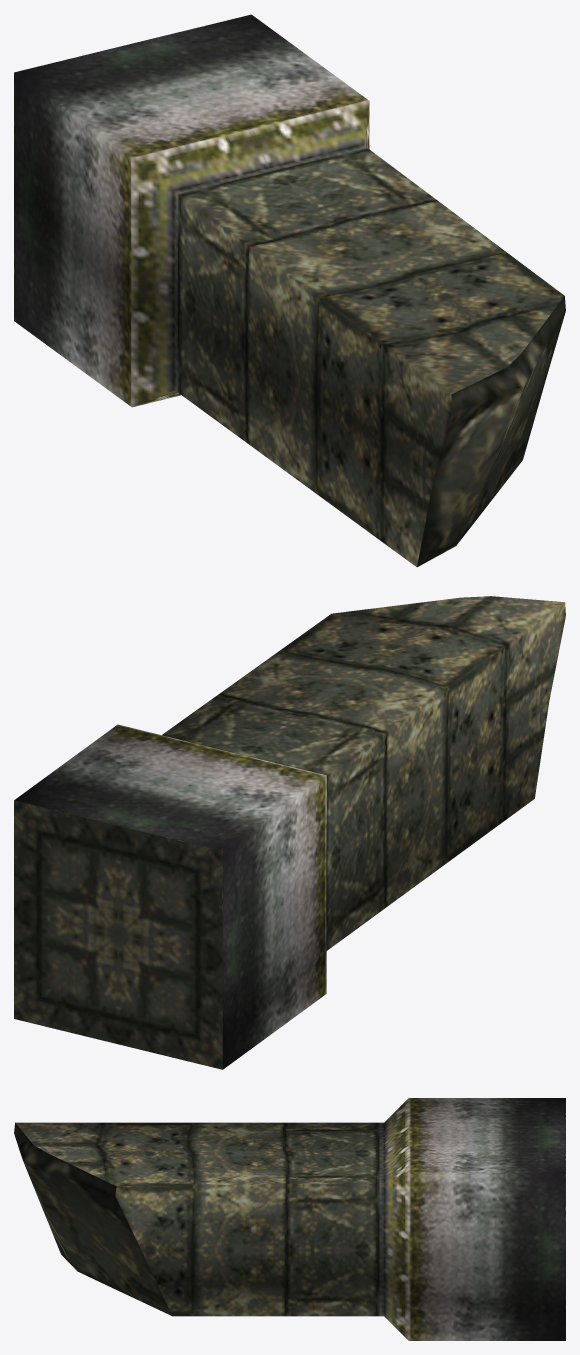
File: Lab_ColumnBroken.gltf
3 views of the same model, one above another, from view 1: azimuth 30°, elevation 25°; view 2: azimuth 150°, elevation 25°; view 3: azimuth 270°, elevation 25° (orthographic). The views are drawn at different scales.
Visible parts, largest first — view 1: Lab_ColumnBroken; view 2: Lab_ColumnBroken; view 3: Lab_ColumnBroken.
Boxes of the visible parts, left/top/right/bottom form: Lab_ColumnBroken: left=14, top=14, right=565, bottom=567; Lab_ColumnBroken: left=14, top=596, right=565, bottom=1069; Lab_ColumnBroken: left=14, top=1098, right=565, bottom=1340.
Bounding box in the file's own units: 0.00802 × 0.00802 × 0.0242.
Materials: 1 (1 with a texture image).
